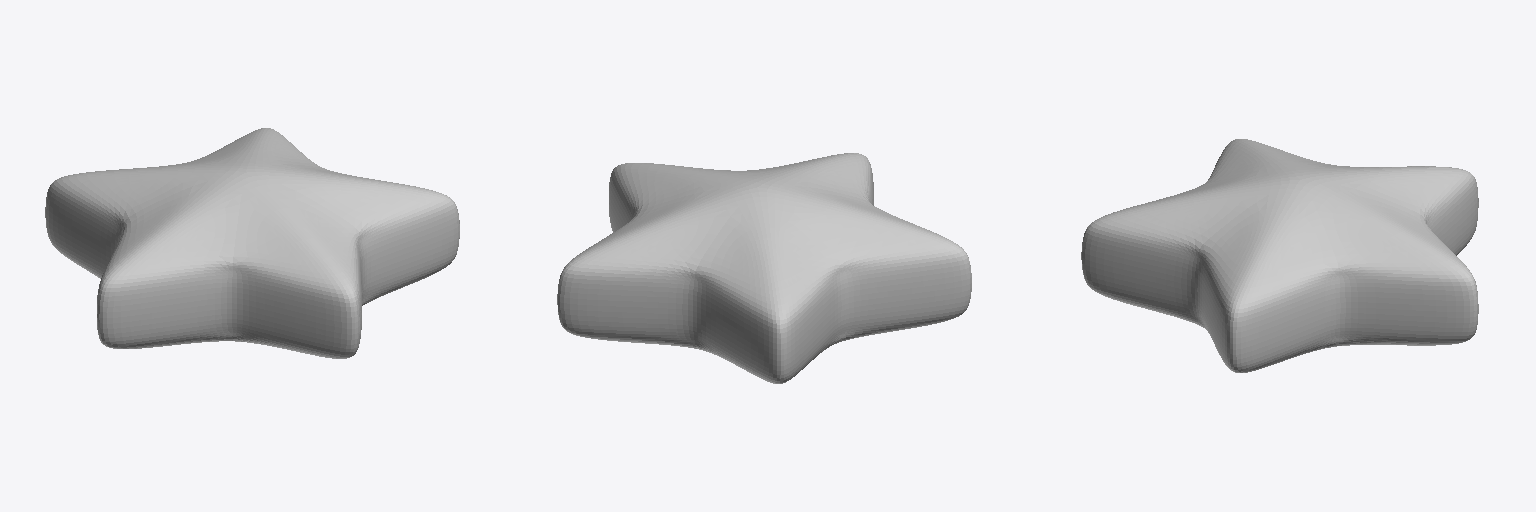
The model's file is Star.obj.
3 renders of one model, left to right at view 1: azimuth 30°, elevation 25°; view 2: azimuth 150°, elevation 25°; view 3: azimuth 270°, elevation 25°, orthographic.
Visible parts, largest first — view 1: Star_Kreis; view 2: Star_Kreis; view 3: Star_Kreis.
Boxes of the visible parts, box(x1,y1,x2,y2) form: Star_Kreis: box(45, 128, 459, 358); Star_Kreis: box(557, 153, 971, 383); Star_Kreis: box(1081, 139, 1478, 372).
Bounding box in the file's own units: 1.73 × 0.6974 × 1.65.